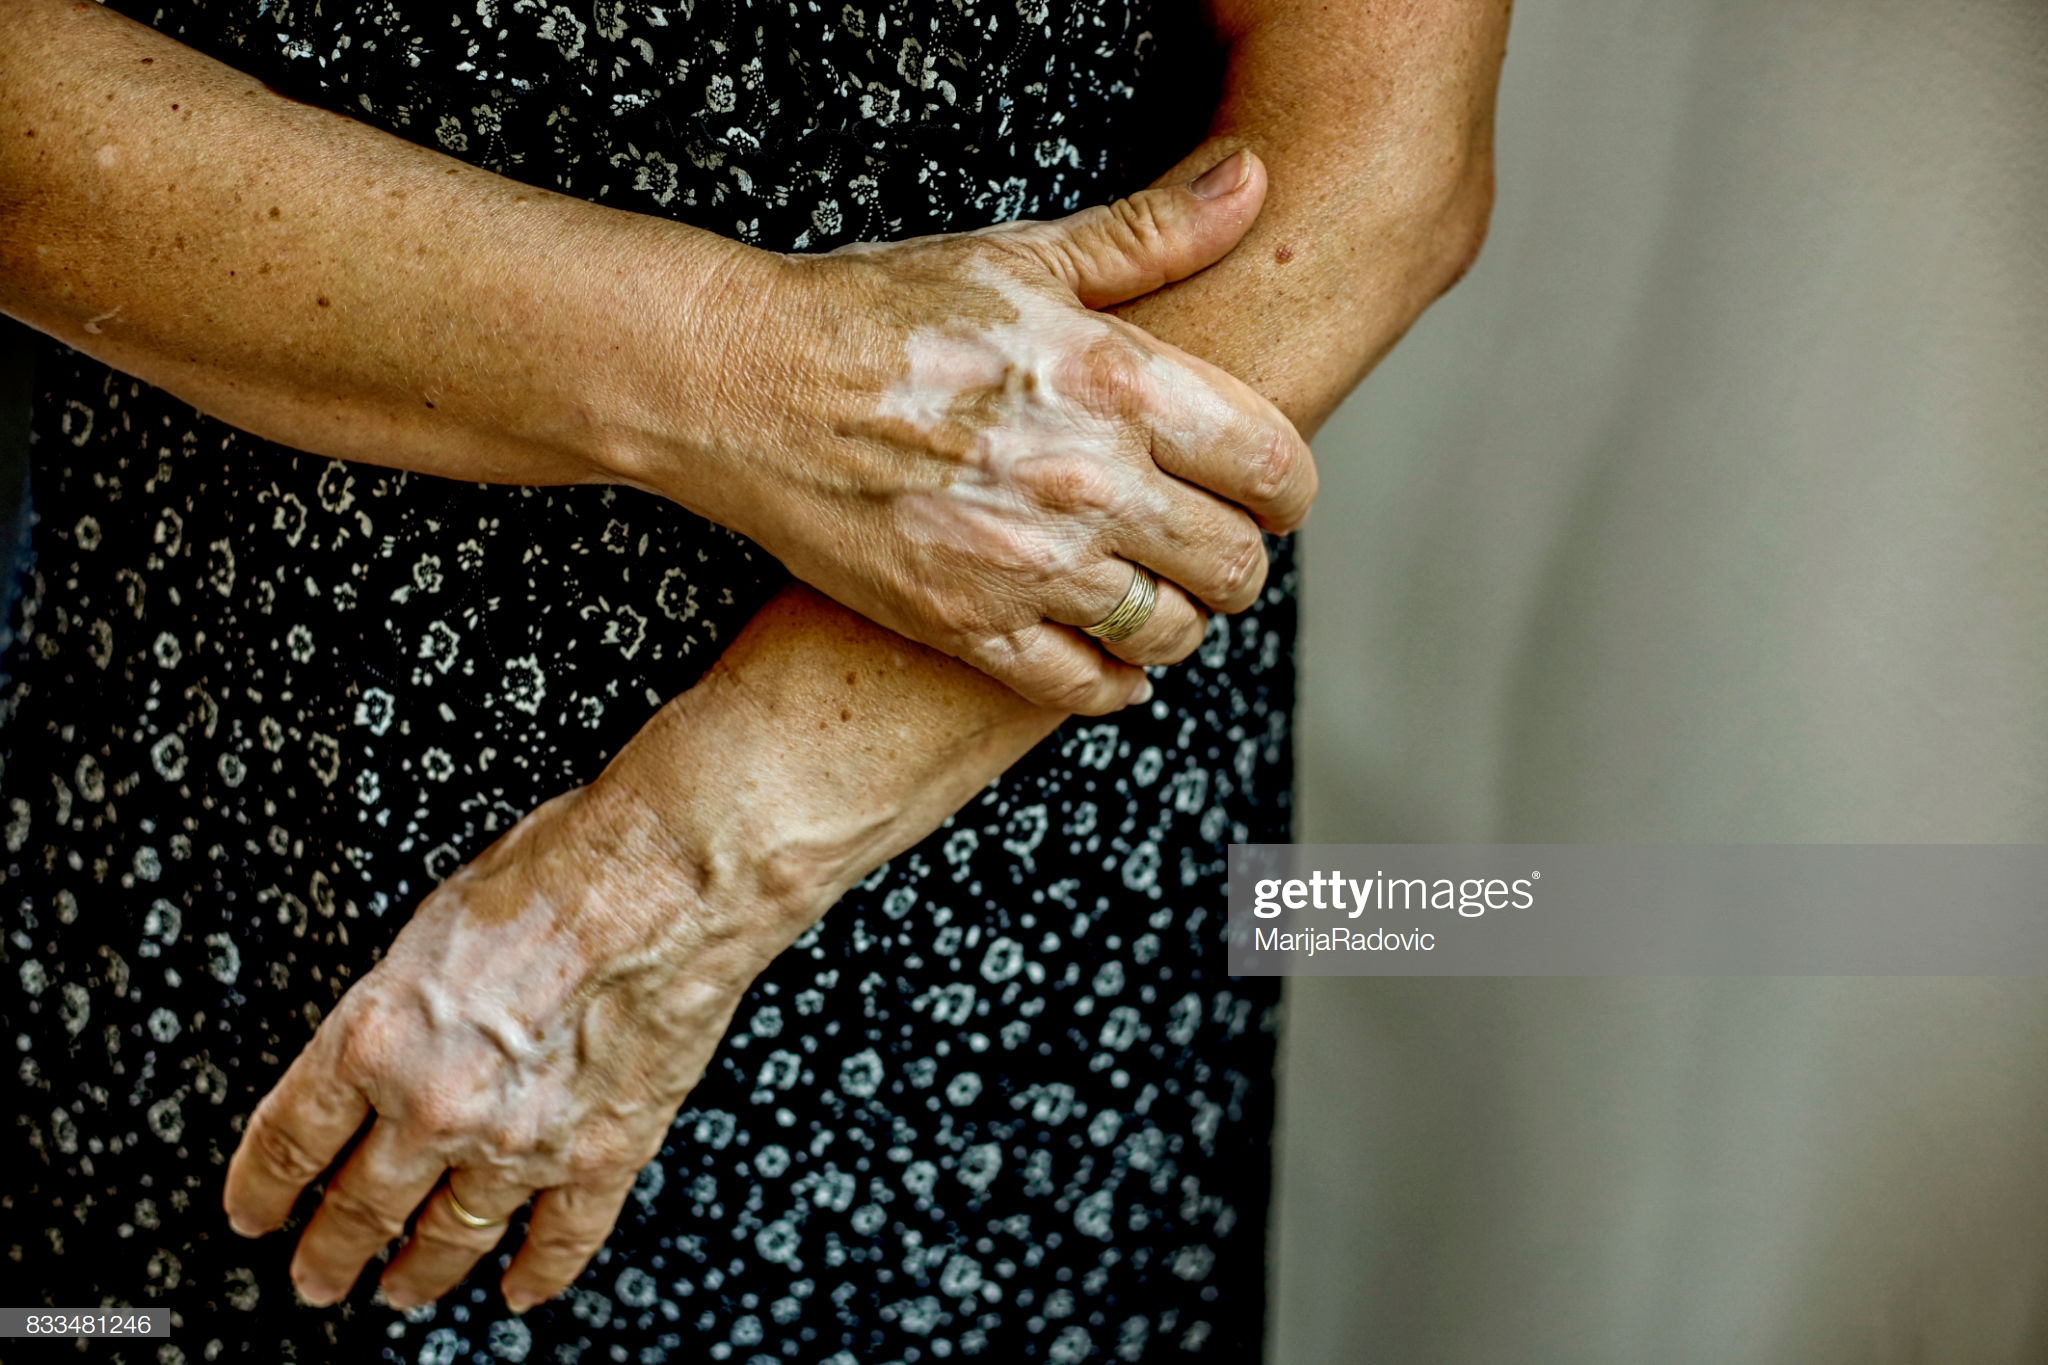vitiligo: (859, 213, 1252, 628), (375, 856, 700, 1249)
